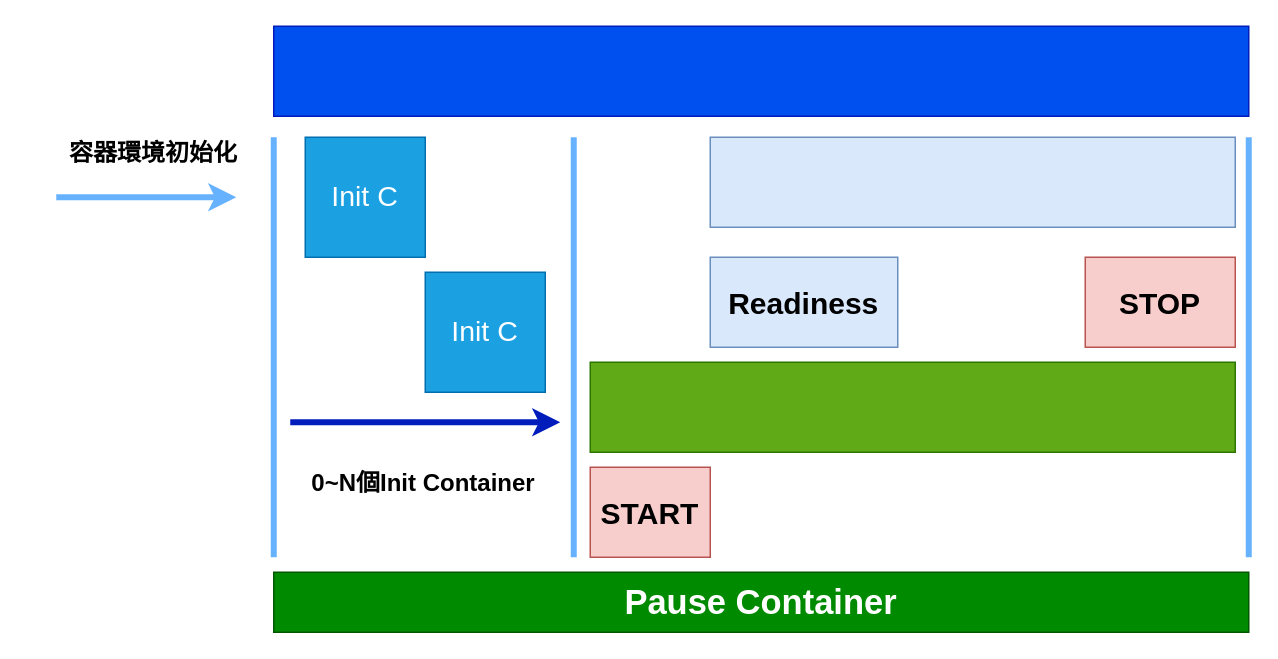
Some shapes in this 1278 by 659 pixel diagram are drawn without their labels. Here are the shapes that lost their labels. From the top down, the centre of each, then its label:
At pixel 760 70: "Pod 生命週期".
At pixel 972 181: "Liveness".
At pixel 912 406: "Main C".
